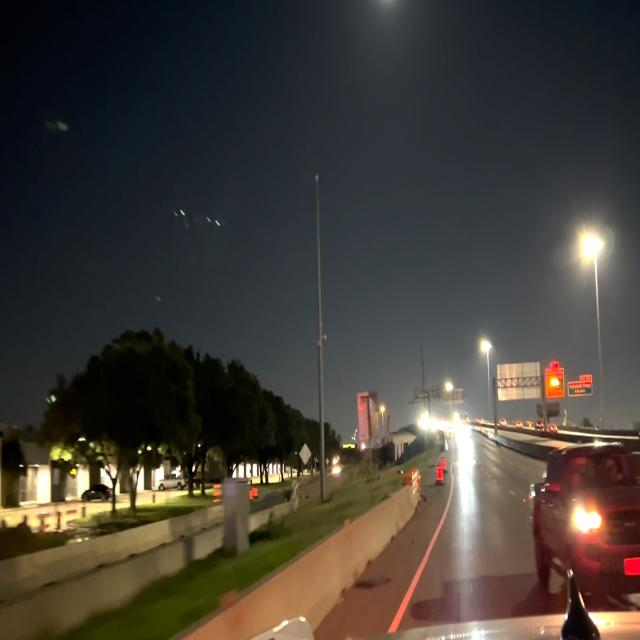back-of-sign: (496, 357, 542, 406), (356, 386, 385, 452), (442, 387, 467, 409), (299, 441, 313, 467)
